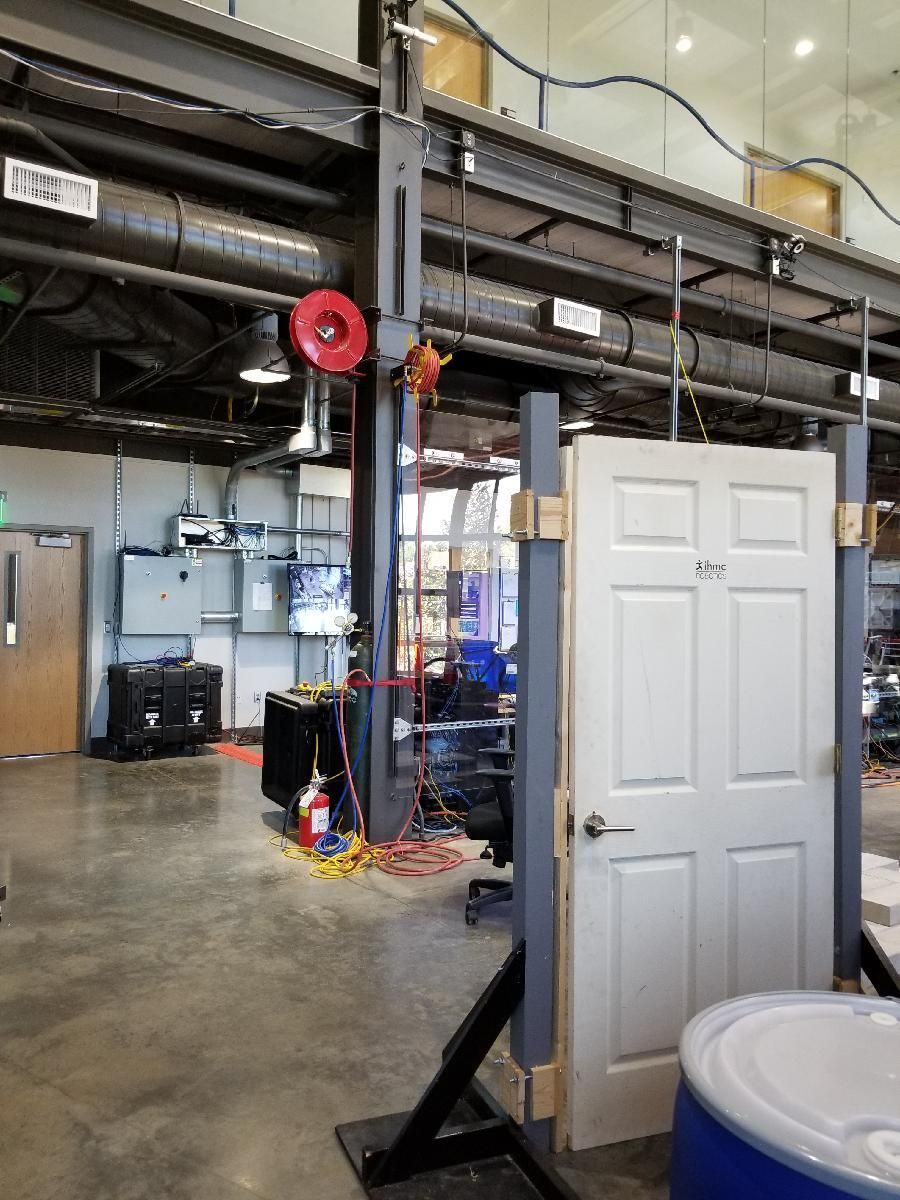door: (573, 438, 834, 1141)
handle: (583, 807, 638, 844)
